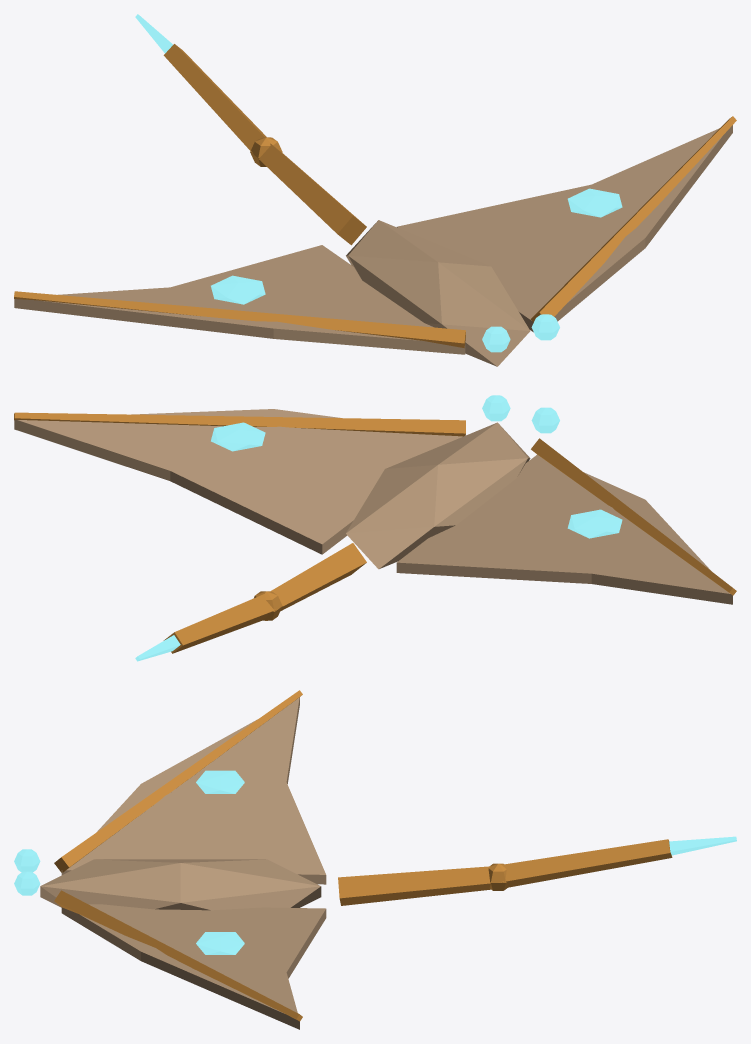
File: exo-wild-ray.glb
3 renders of one model, top to bottom at view 1: azimuth 30°, elevation 25°; view 2: azimuth 150°, elevation 25°; view 3: azimuth 270°, elevation 25°, orthographic. The views are drawn at different scales.
Parts seen in each view (by area): view 1: body; view 2: body; view 3: body.
Boxes of the visible parts, x1,y1,x2,y2 form: body: (14, 14, 736, 366); body: (14, 395, 736, 661); body: (14, 690, 736, 1029).
Size of the model in its own units: 2.92 by 0.3499 by 2.73.
